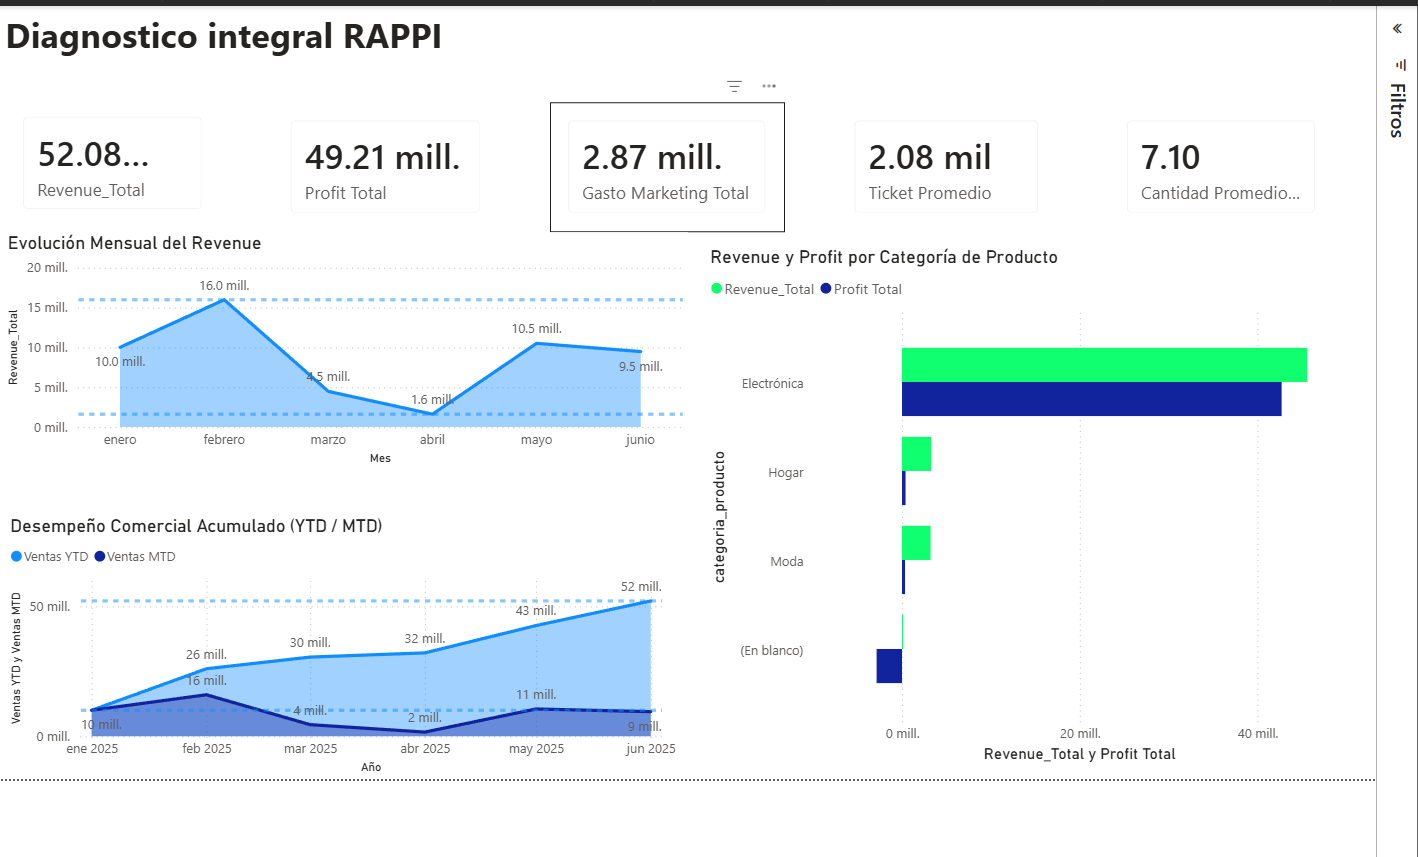

This screenshot's page, from the dashboard's own definition file:
{"tool":"powerbi","page":{"name":" Overview","canvas":[1280,720],"ordinal":0},"visuals":[{"type":"cardVisual","fields":{"Data":["orders_clean.Revenue_Total"]},"box":[5,85.8,200.3,120.7],"z":0},{"type":"textbox","box":[0,0,465.9,58.6],"z":1000},{"type":"cardVisual","fields":{"Data":["orders_clean.Profit Total"]},"box":[253.5,89.6,210.3,120.7],"z":2000},{"type":"cardVisual","fields":{"Data":["marketing_clean.Gasto Marketing Total"]},"box":[512,89.6,217.7,120.7],"z":3000},{"type":"cardVisual","fields":{"Data":["orders_clean.Ticket Promedio"]},"box":[777.9,89.6,205.3,120.7],"z":4000},{"type":"lineChart","title":"Evolución Mensual del Revenue","fields":{"Y":["orders_clean.Revenue_Total"],"Category":["dim_Fecha.Date.Variación.Jerarquía de fechas.Mes"]},"box":[2.5,210.1,637.6,221.2],"z":5000},{"type":"lineChart","title":"Desempeño Comercial Acumulado (YTD / MTD)","fields":{"Y":["orders_clean.Ventas YTD","orders_clean.Ventas MTD"],"Category":["dim_Fecha.Date.Variación.Jerarquía de fechas.Año","dim_Fecha.Date.Variación.Jerarquía de fechas.Mes"]},"box":[5,473.6,628.9,246.1],"z":6000},{"type":"clusteredBarChart","title":"Revenue y Profit por Categoría de Producto","fields":{"Y":["orders_clean.Revenue_Total","orders_clean.Profit Total"],"Category":["catalog_clean.categoria_producto"]},"box":[655.7,222.7,620.8,485.2],"z":7000},{"type":"cardVisual","fields":{"Data":["orders_clean.Cantidad Promedio por Orden"]},"box":[1031.4,89.6,209,120.7],"z":8000}]}

Visuals, with their boxes on the page's 1280x720 design canvas (x1, y1, x2, y2). These are canvas units, not pixel positions in the 1418x857 screenshot, which may show the page scaled, cropped or inside an application window:
cardVisual - orders_clean.Revenue_Total: <box>5,86,205,206</box>
textbox: <box>0,0,466,59</box>
cardVisual - orders_clean.Profit Total: <box>254,90,464,210</box>
cardVisual - marketing_clean.Gasto Marketing Total: <box>512,90,730,210</box>
cardVisual - orders_clean.Ticket Promedio: <box>778,90,983,210</box>
"Evolución Mensual del Revenue" lineChart: <box>2,210,640,431</box>
"Desempeño Comercial Acumulado (YTD / MTD)" lineChart: <box>5,474,634,720</box>
"Revenue y Profit por Categoría de Producto" clusteredBarChart: <box>656,223,1276,708</box>
cardVisual - orders_clean.Cantidad Promedio por Orden: <box>1031,90,1240,210</box>
